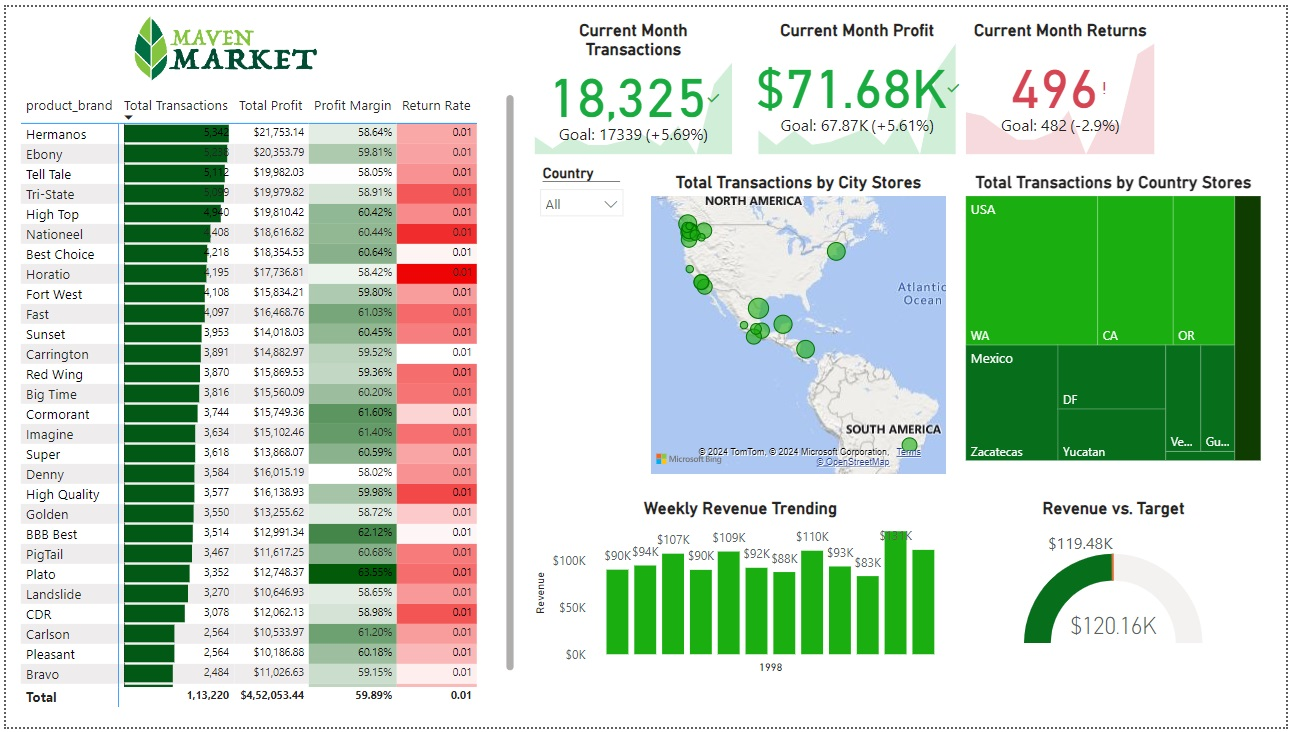

What the dashboard file says about the page in this screenshot:
{"tool":"powerbi","page":{"name":"Topline Performance","canvas":[1280,720],"ordinal":0},"visuals":[{"type":"image","box":[0,0,437.5,82.5],"z":0},{"type":"kpi","title":"Current Month Transactions","fields":{"Indicator":["Measure Table.Total Transactions"],"TrendLine":["Calendar.Start of Month"],"Goal":["Measure Table.Last Month Transactions"]},"box":[523.8,12.5,207.5,140],"z":0,"group":"g1"},{"type":"kpi","title":"Current Month Profit","fields":{"Indicator":["Measure Table.Total Profit"],"TrendLine":["Calendar.Start of Month"],"Goal":["Measure Table.Last Month Profit"]},"box":[747.6,12.5,207.5,140],"z":1000,"group":"g1"},{"type":"pivotTable","fields":{"Rows":["Products.product_brand"],"Values":["Measure Table.Total Transactions","Measure Table.Total Profit","Measure Table.Profit Margin","Measure Table.Return Rate"]},"box":[10,82.5,503.8,622.5],"z":1000},{"type":"kpi","title":"Current Month Returns","fields":{"Indicator":["Measure Table.Total Returns"],"TrendLine":["Calendar.Start of Month"],"Goal":["Measure Table.Last Month Returns"]},"box":[955,12.5,198.8,140],"z":2000,"group":"g1"},{"type":"group","id":"g1","title":"Group 1","box":[523.8,12.5,630,140],"z":2000},{"type":"map","title":"Total Transactions by City Stores","fields":{"Category":["Stores.store_city"],"Size":["Measure Table.Total Transactions"]},"box":[640,165,305,306.2],"z":3000},{"type":"slicer","fields":{"Values":["Stores.store_country"]},"box":[523.8,152.5,103.8,71.2],"z":4000},{"type":"treemap","title":"Total Transactions by Country Stores","fields":{"Values":["Measure Table.Total Transactions"],"Group":["Stores.store_country","Stores.store_city"],"Details":["Stores.store_state"]},"box":[955,165,305,293.8],"z":5000},{"type":"columnChart","title":"Weekly Revenue Trending","fields":{"Y":["Measure Table.Total Revenue"],"Category":["Calendar.Start of Week.Variation.Date Hierarchy.Quarter","Calendar.Start of Week.Variation.Date Hierarchy.Month"]},"box":[523.8,491.2,421.2,180],"z":6000},{"type":"gauge","title":"Revenue vs. Target","fields":{"Y":["Measure Table.Total Revenue"],"TargetValue":["Measure Table.Revenue Target"]},"box":[955,491.2,305,150],"z":7000}]}

Visuals, with their boxes in screenshot pixels (x1, y1, x2, y2), scaled from the page's 1280x720 canvas onto the 1291x732 screenshot:
image: x1=0 y1=0 x2=441 y2=84
"Current Month Transactions" kpi: x1=528 y1=13 x2=738 y2=155
"Current Month Profit" kpi: x1=754 y1=13 x2=963 y2=155
pivotTable - Products.product_brand x Measure Table.Total Transactions: x1=10 y1=84 x2=518 y2=717
"Current Month Returns" kpi: x1=963 y1=13 x2=1164 y2=155
"Group 1" group: x1=528 y1=13 x2=1164 y2=155
"Total Transactions by City Stores" map: x1=646 y1=168 x2=953 y2=479
slicer - Stores.store_country: x1=528 y1=155 x2=633 y2=227
"Total Transactions by Country Stores" treemap: x1=963 y1=168 x2=1271 y2=466
"Weekly Revenue Trending" columnChart: x1=528 y1=499 x2=953 y2=682
"Revenue vs. Target" gauge: x1=963 y1=499 x2=1271 y2=652
